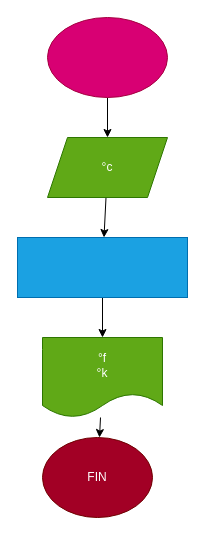
The diagram is 205 pixels wide and 535 high, and some of its shapes have lost their labels. The centre of each missing label's shape, as x and y in pixels:
"INICIO" goes at pixel 107 57.
"°f= °c* 1.8 + 32 °k= °c + 273.15" goes at pixel 102 267.
